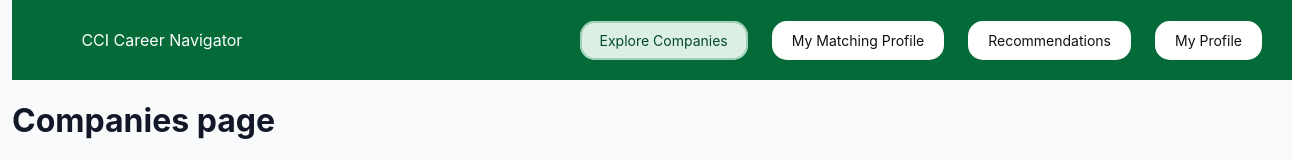
Test case: Navbar › navigates home when the brand is activated from another route
Click the link with aria-label "CCI Career Navigator home" at coordinates (162, 40), box [81,29,242,51]
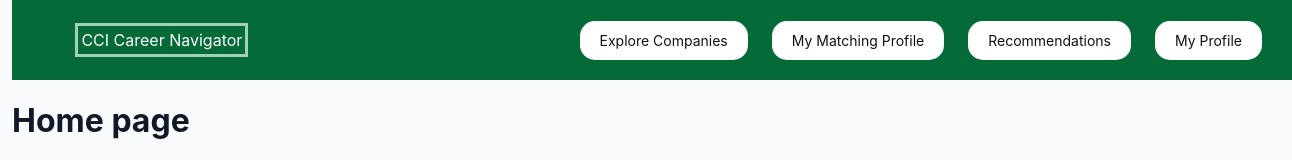
Result: the heading "Home page" is shown at [12,101,190,140]
